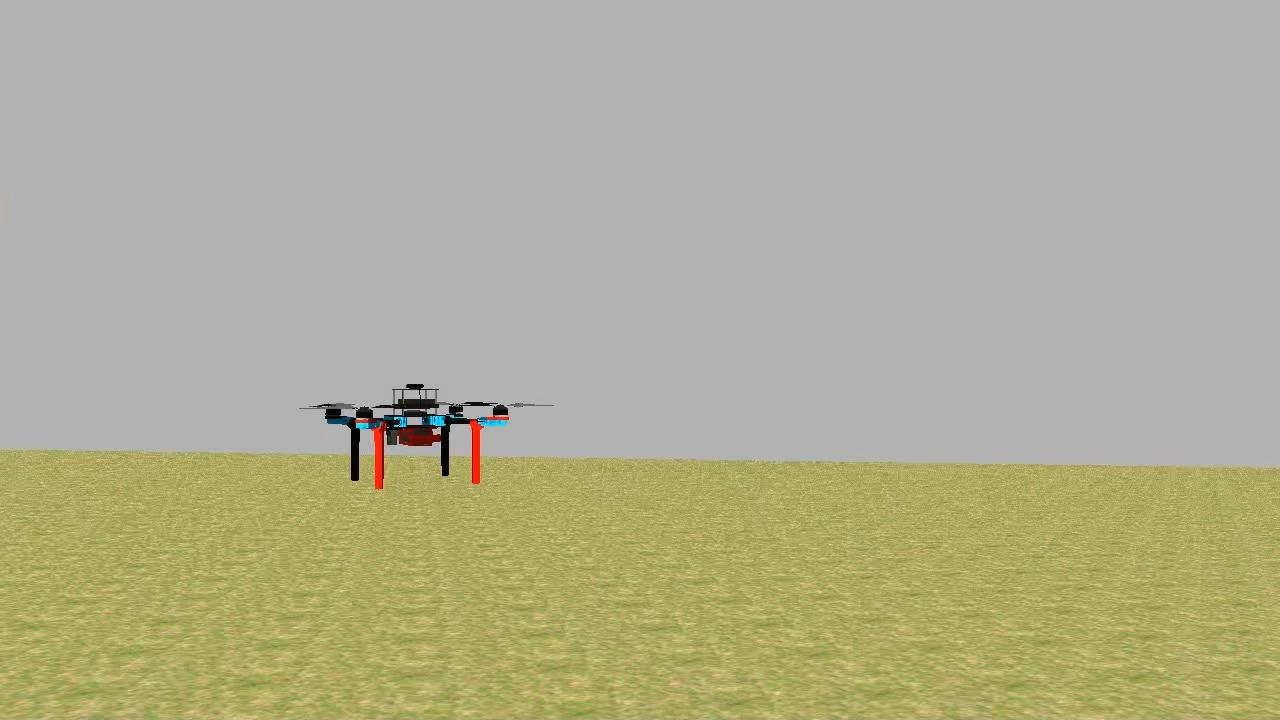UAV: (318, 376, 518, 494)
